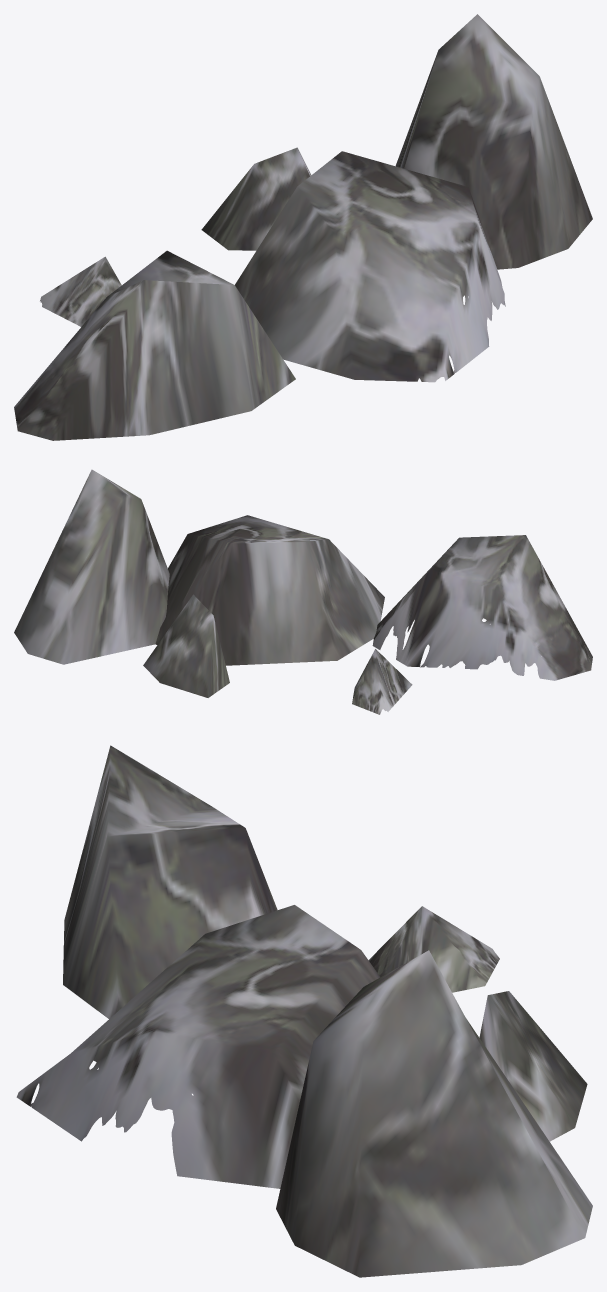
Rendered from rzjd_shitoushan_07.FBX.
3 views of the same model, one above another, from view 1: azimuth 30°, elevation 25°; view 2: azimuth 150°, elevation 25°; view 3: azimuth 270°, elevation 25° (orthographic). The views are drawn at different scales.
Visible parts, largest first — view 1: rzjd_shitoushan_07; view 2: rzjd_shitoushan_07; view 3: rzjd_shitoushan_07.
Boxes of the visible parts, box(x1,y1,x2,y2) form: rzjd_shitoushan_07: box(14, 14, 592, 440); rzjd_shitoushan_07: box(14, 469, 592, 714); rzjd_shitoushan_07: box(16, 745, 592, 1277).
Size of the model in its own units: 34.77 by 20.5 by 10.62.
